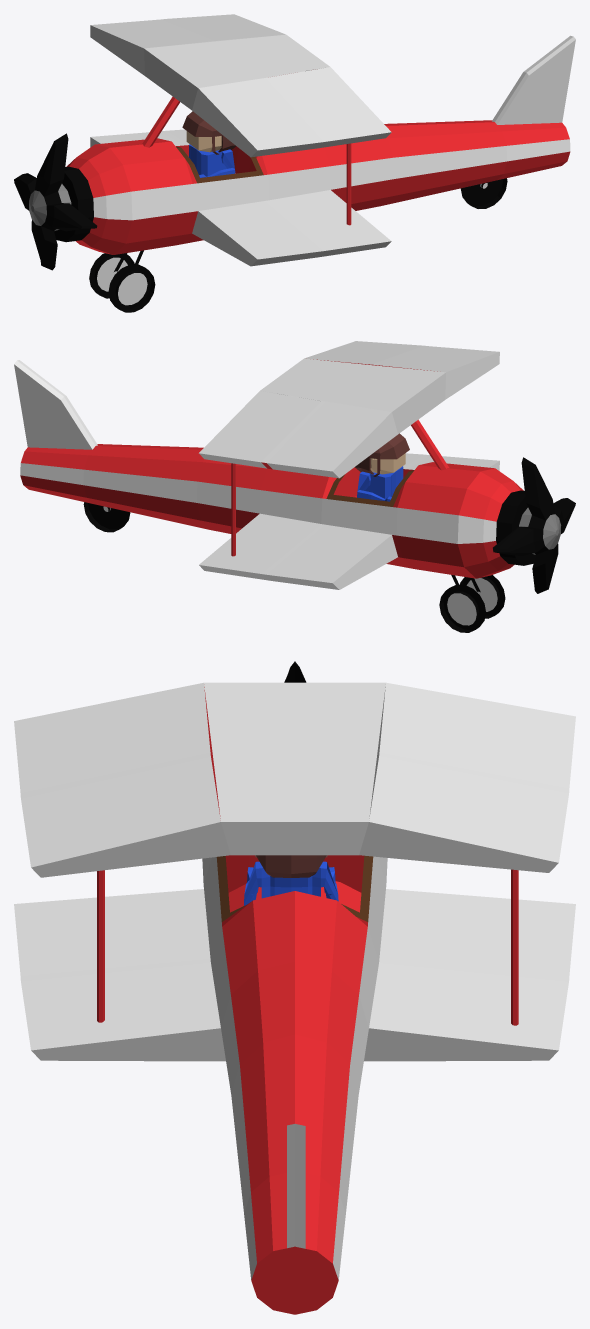
File: toy_plane.glb
3 views of the same model, one above another, from view 1: azimuth 30°, elevation 25°; view 2: azimuth 150°, elevation 25°; view 3: azimuth 270°, elevation 25° (orthographic). The views are drawn at different scales.
Visible parts, largest first — view 1: Plane, Pilot, Helmet; view 2: Plane, Pilot, Helmet; view 3: Plane, Pilot, Helmet.
Part boxes in pixels (<box>): Plane: <box>14,14,575,312</box>; Pilot: <box>186,131,235,177</box>; Helmet: <box>182,111,235,154</box>; Plane: <box>14,341,575,632</box>; Pilot: <box>357,453,405,501</box>; Helmet: <box>355,433,409,476</box>; Plane: <box>14,661,575,1314</box>; Pilot: <box>244,861,338,905</box>; Helmet: <box>255,855,327,877</box>.
Size of the model in its own units: 13.31 by 5.2 by 7.13.
